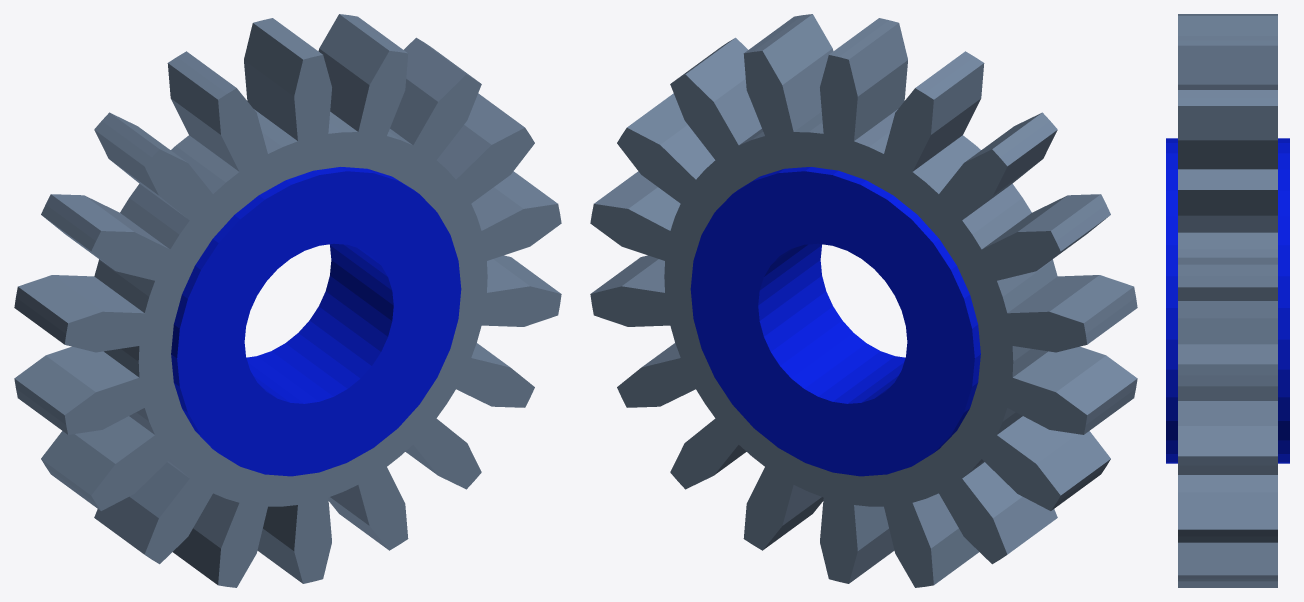
The model's file is upgrade_gear.fbx.
3 views of the same model, side by side, from view 1: azimuth 30°, elevation 25°; view 2: azimuth 150°, elevation 25°; view 3: azimuth 270°, elevation 25° (orthographic).
Visible parts, largest first — view 1: gear final; view 2: gear final; view 3: gear final.
Part boxes in pixels (<box>): gear final: <box>14,14,561,587</box>; gear final: <box>590,14,1137,587</box>; gear final: <box>1166,14,1289,587</box>.
Bounding box in the file's own units: 98.79 × 99.69 × 21.5.
